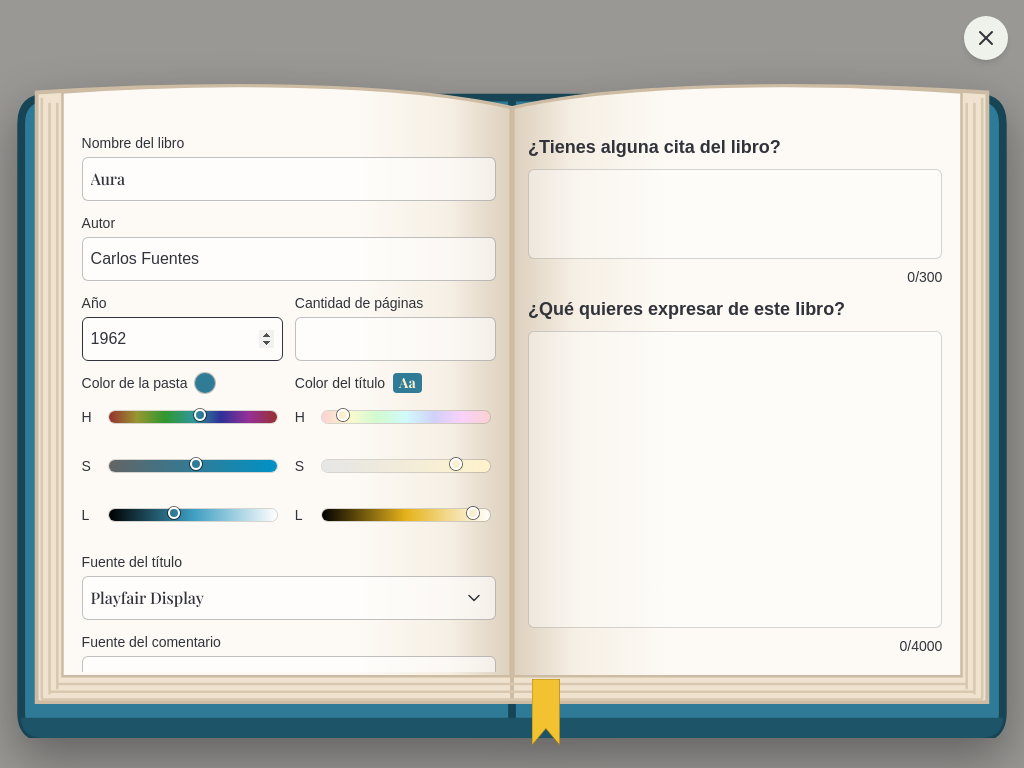
Test case: BookCreator › si no se puede guardar, muestra el error y deja firmar de nuevo
Earlier steps of the test are not shown.
Type "80" into the number field labelled "Cantidad de páginas". click: {"x": 395, "y": 339}
box: [295,317,496,361]
(page scrolled)
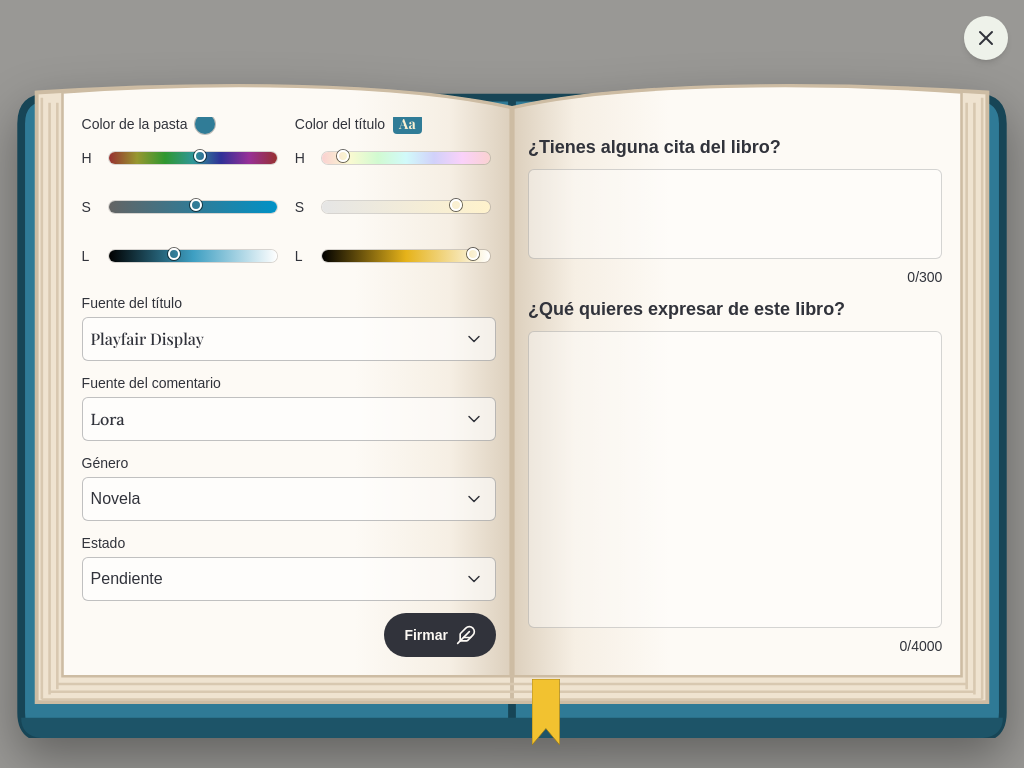
Click the button "Firmar". click: {"x": 440, "y": 635}
box: [384,613,496,657]
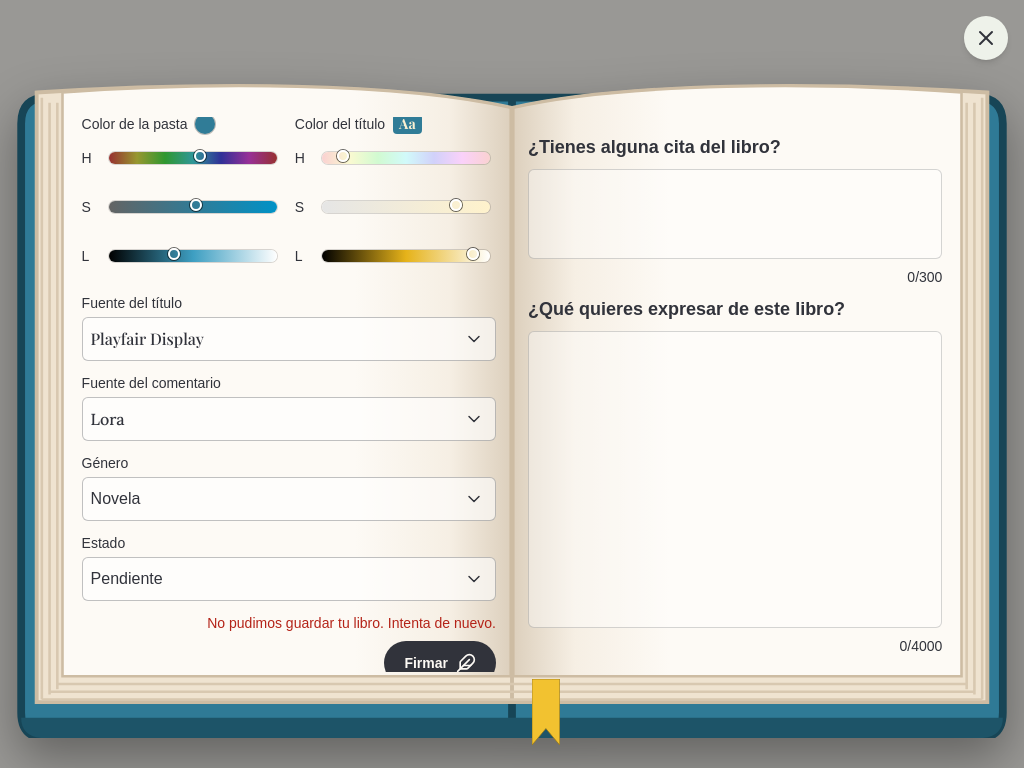
Now the button "Firmar" is enabled, box [384,641,496,672]
Now the message reads "No pudimos guardar tu libro. Intenta de nuevo.", box [207,615,496,631]
